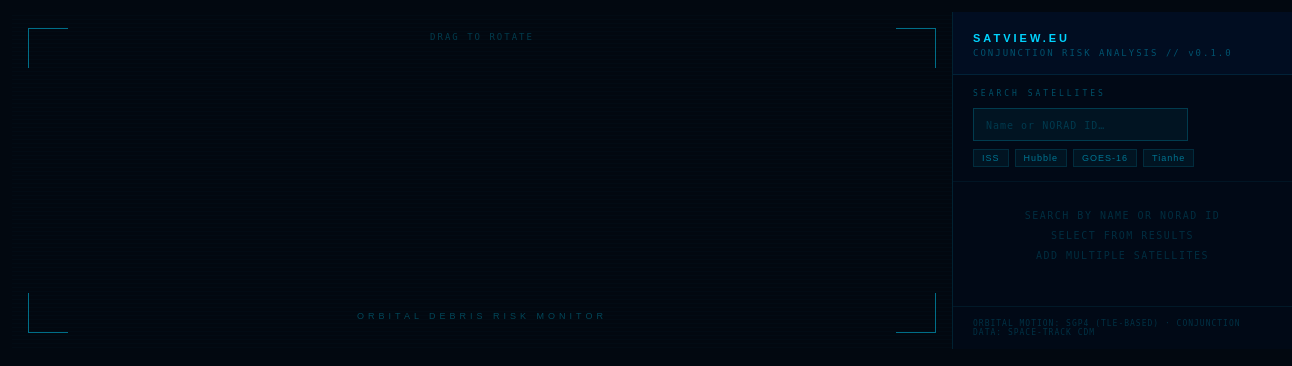
Test: Enter key — tracker search input › Enter with text when search returns empty shows "No satellite found"
Type "XYZNOTFOUND" into the field with placeholder "Name or NORAD ID…" at (1080, 124), box [973,108,1188,141]
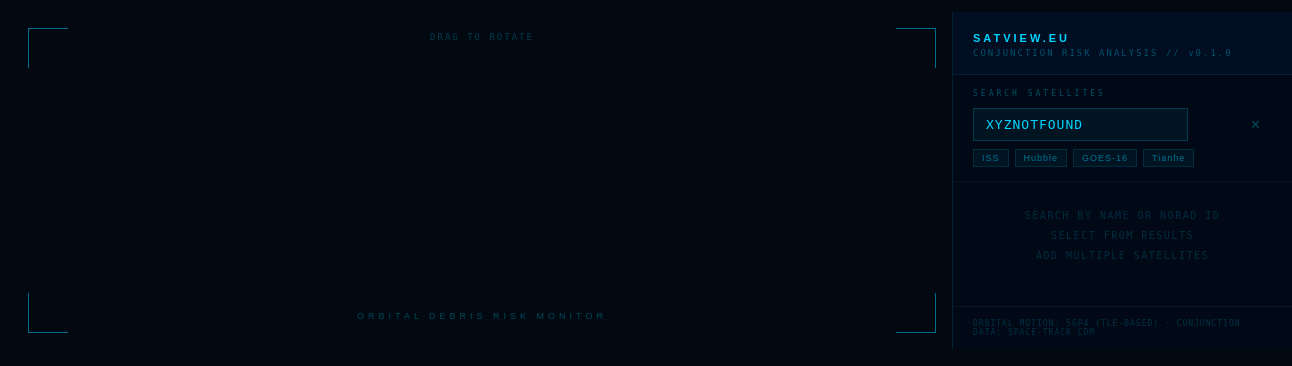
Press Enter in the field with placeholder "Name or NORAD ID…", box [973,108,1188,141]
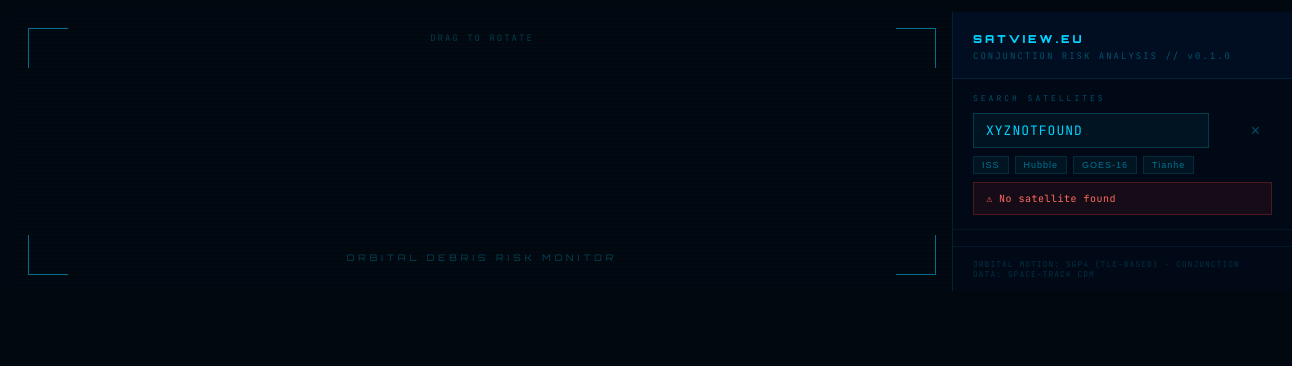
Check: the text "⚠ No satellite found" is shown, box [973,182,1272,215]
